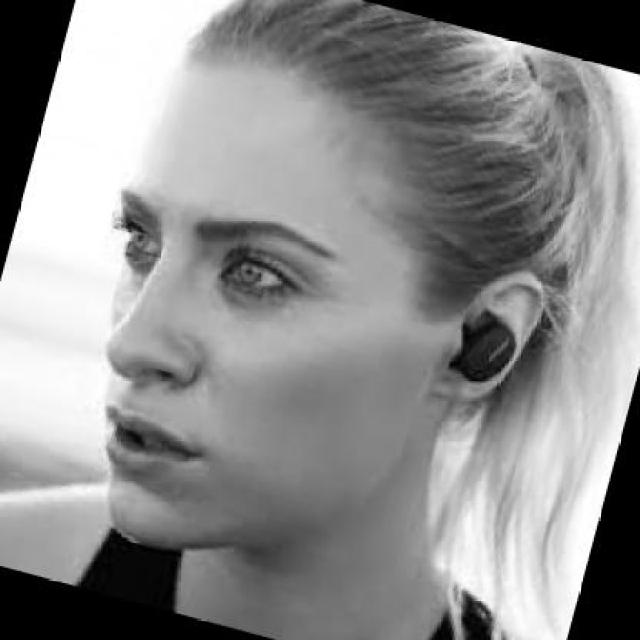earphone: (441, 307, 555, 401)
